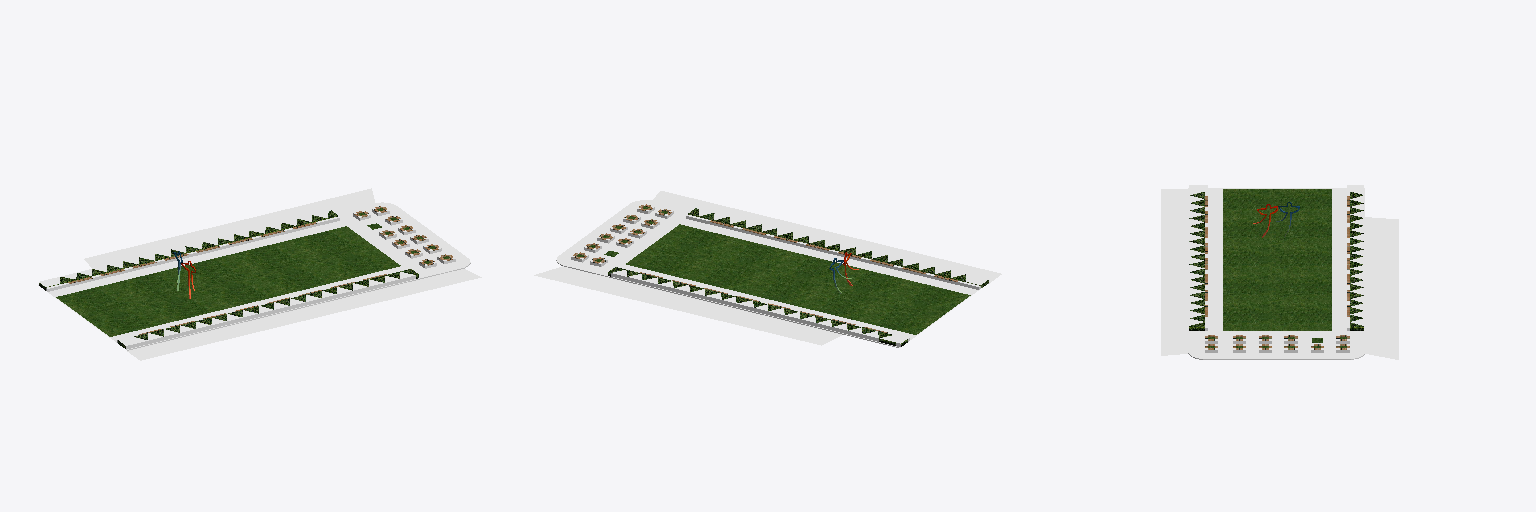
3 renders of one model, left to right at view 1: azimuth 30°, elevation 25°; view 2: azimuth 150°, elevation 25°; view 3: azimuth 270°, elevation 25°, orthographic.
Parts seen in each view (by area): view 1: gnd13_1; view 2: gnd13_1; view 3: gnd13_1.
Part boxes in pixels (x1,y1,x2,y2): gnd13_1: (38,188,481,360); gnd13_1: (534,191,1001,347); gnd13_1: (1161,185,1398,359).
Bounding box in the file's own units: 60.11 × 6.11 × 35.28.
14 materials, 5 textured.